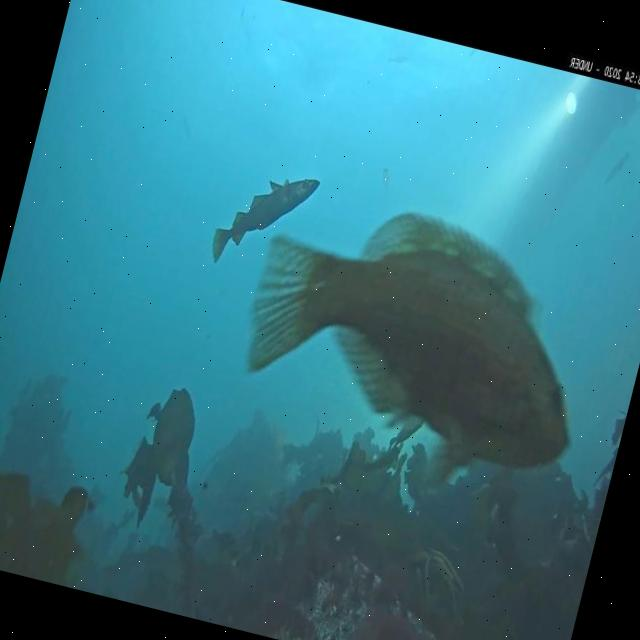fish: (217, 178, 615, 518), (206, 157, 320, 282), (605, 150, 630, 186), (376, 164, 394, 198)
